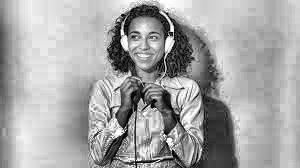happy: (114, 9, 191, 82)
